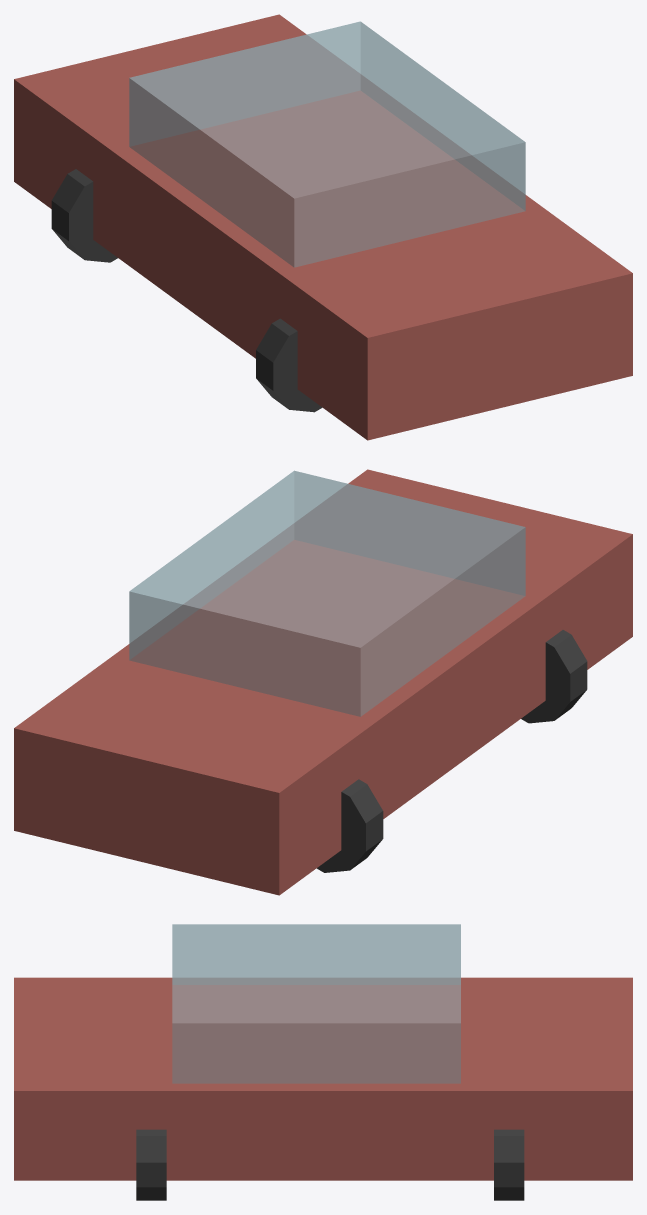
File: car_suv.glb
3 views of the same model, one above another, from view 1: azimuth 30°, elevation 25°; view 2: azimuth 150°, elevation 25°; view 3: azimuth 270°, elevation 25° (orthographic). The views are drawn at different scales.
Parts seen in each view (by area): view 1: Body.001, Cabin.001, Wheel_0_-1.001, Wheel_1_-1.001; view 2: Body.001, Cabin.001, Wheel_1_-1.001, Wheel_0_-1.001; view 3: Body.001, Cabin.001, Wheel_1_1.001, Wheel_0_1.001.
Boxes of the visible parts, x1,y1,x2,y2 form: Body.001: [14, 14, 632, 440]; Cabin.001: [129, 21, 525, 267]; Wheel_0_-1.001: [51, 169, 117, 262]; Wheel_1_-1.001: [256, 318, 322, 412]; Body.001: [14, 469, 632, 895]; Cabin.001: [129, 470, 525, 716]; Wheel_1_-1.001: [521, 630, 587, 723]; Wheel_0_-1.001: [317, 779, 383, 872]; Body.001: [14, 977, 632, 1180]; Cabin.001: [172, 924, 460, 1083]; Wheel_1_1.001: [136, 1129, 166, 1200]; Wheel_0_1.001: [494, 1129, 524, 1200].
Size of the model in its own units: 2.31 by 1.4 by 4.5.
